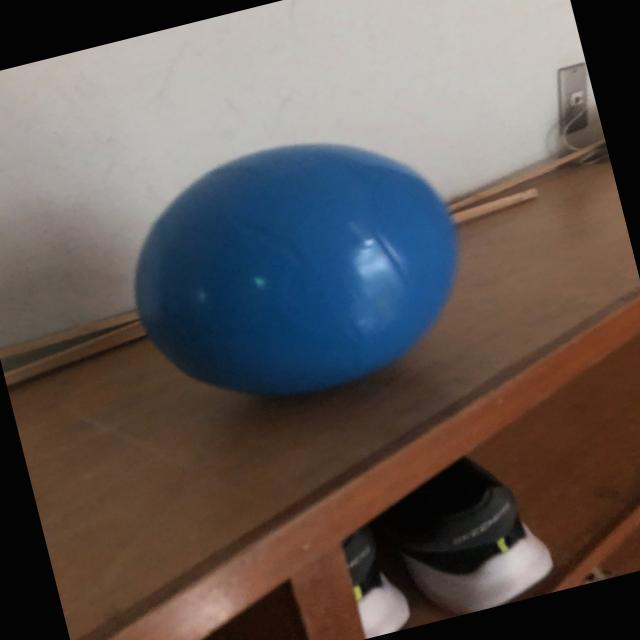blue_ball: (104, 115, 476, 428)
